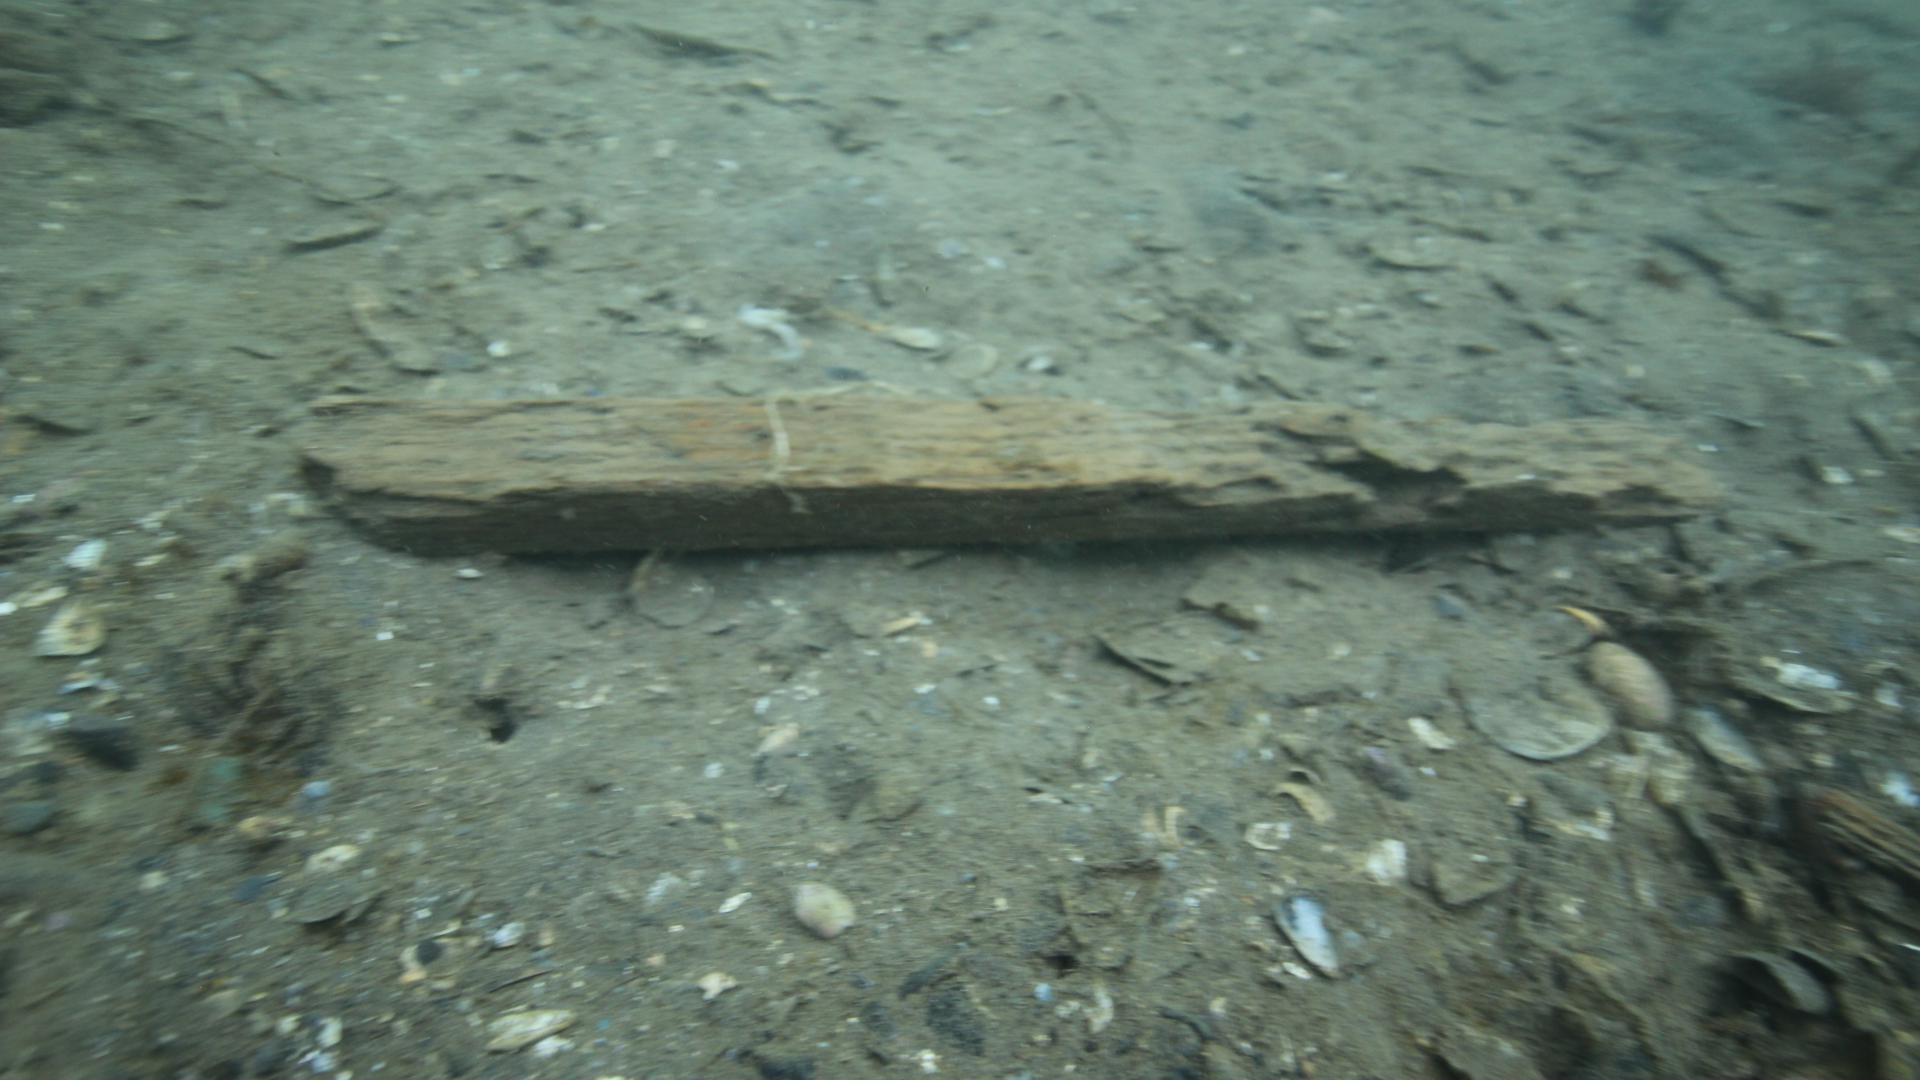wood: (287, 382, 1731, 559)
